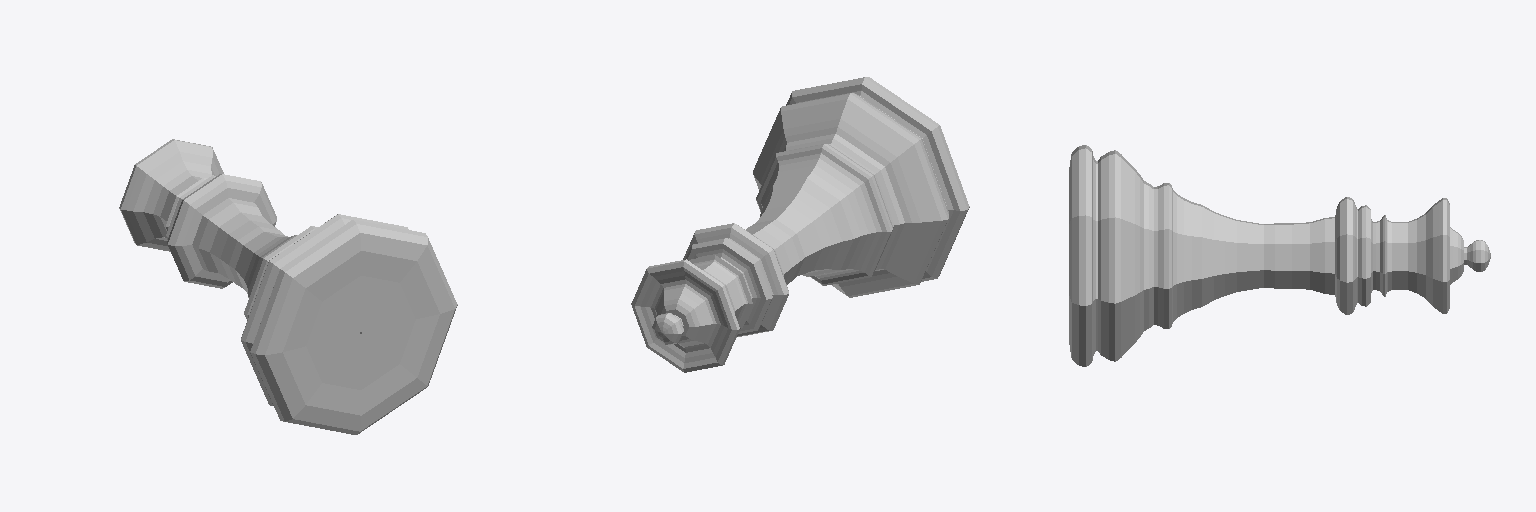
Rendered from queen.obj.
3 renders of one model, left to right at view 1: azimuth 30°, elevation 25°; view 2: azimuth 150°, elevation 25°; view 3: azimuth 270°, elevation 25°, orthographic.
Parts seen in each view (by area): view 1: nurbsToPoly4; view 2: nurbsToPoly4; view 3: nurbsToPoly4.
Part boxes in pixels (x1,y1,x2,y2): nurbsToPoly4: (119, 139, 457, 434); nurbsToPoly4: (631, 77, 969, 372); nurbsToPoly4: (1069, 145, 1490, 366).
Bounding box in the file's own units: 1.19 × 1.19 × 2.11.